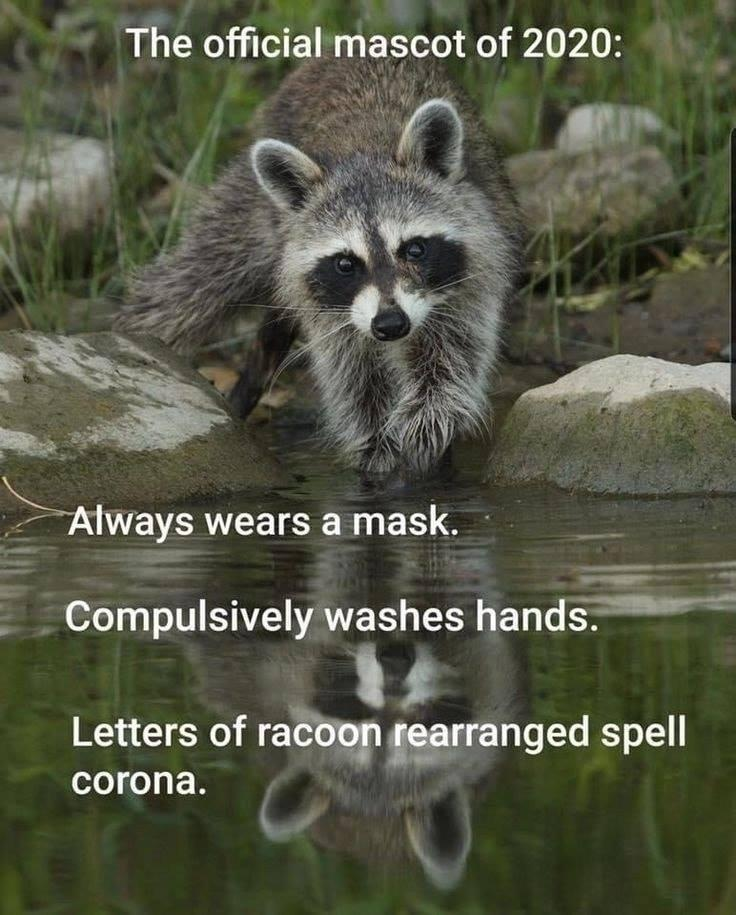raccoon: (117, 51, 579, 497)
